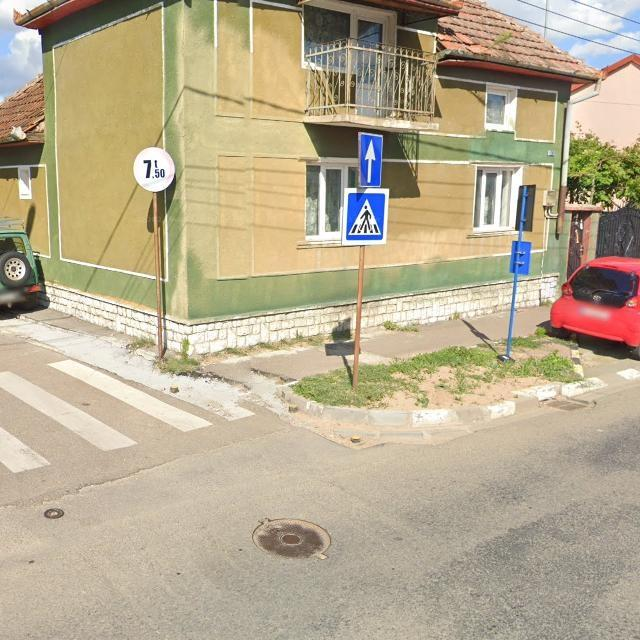info_crosswalk: (343, 189, 389, 245)
